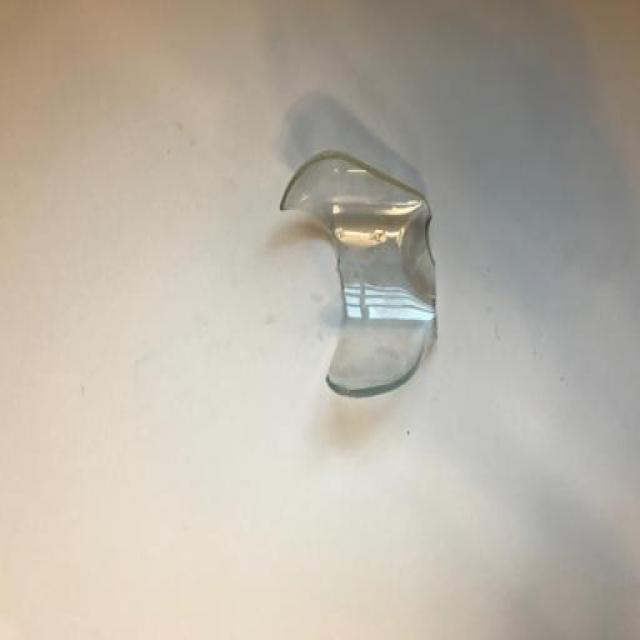glass: (267, 115, 462, 468)
